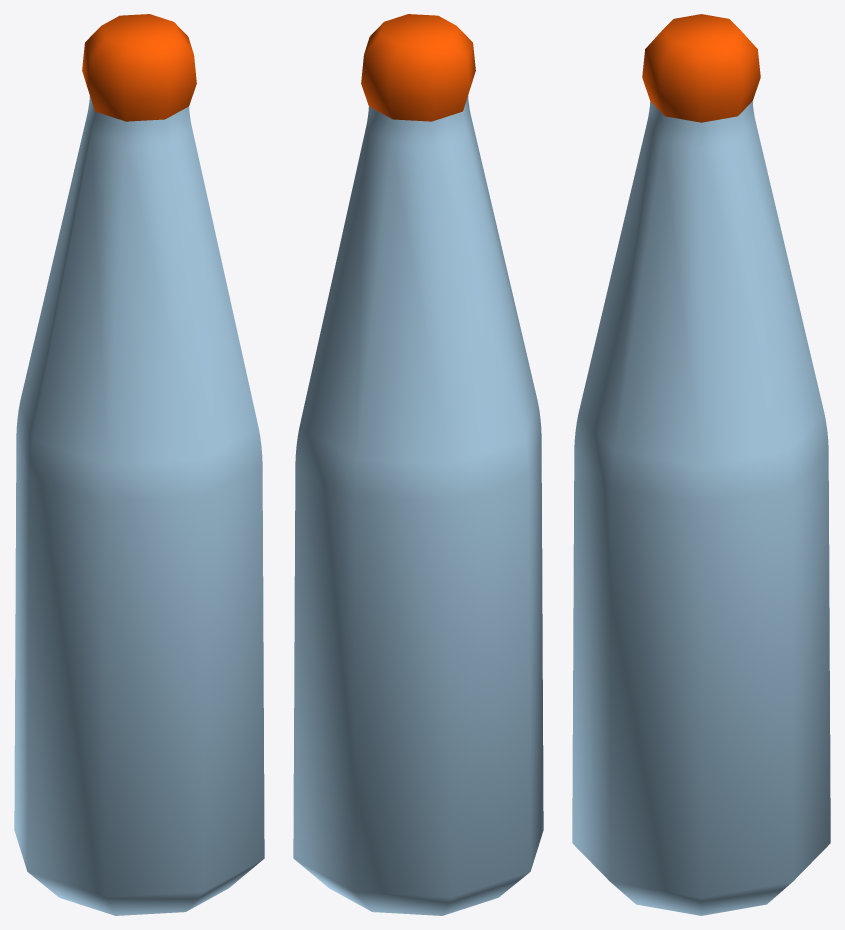
The model's file is bootleeee.fbx.
The picture shows the model from 3 angles, left to right: view 1: azimuth 30°, elevation 25°; view 2: azimuth 150°, elevation 25°; view 3: azimuth 270°, elevation 25°; orthographic projection.
Visible parts, largest first — view 1: Cylinder, Cylinder.001; view 2: Cylinder, Cylinder.001; view 3: Cylinder, Cylinder.001.
Part boxes in pixels (left/top/right/bottom): Cylinder: left=14, top=96, right=264, bottom=915; Cylinder.001: left=82, top=14, right=196, bottom=121; Cylinder: left=293, top=96, right=543, bottom=915; Cylinder.001: left=361, top=14, right=475, bottom=121; Cylinder: left=572, top=101, right=830, bottom=915; Cylinder.001: left=642, top=14, right=760, bottom=122.
Size of the model in its own units: 203 by 734 by 203.
